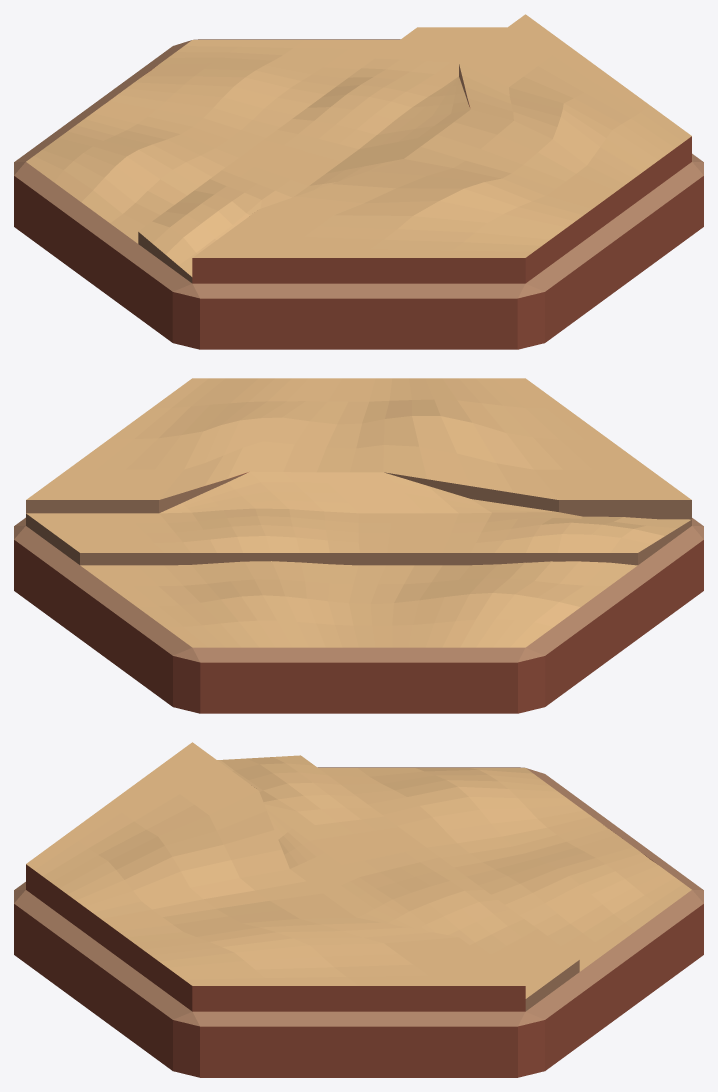
Rendered from sand.fbx.
3 views of the same model, one above another, from view 1: azimuth 30°, elevation 25°; view 2: azimuth 150°, elevation 25°; view 3: azimuth 270°, elevation 25° (orthographic).
Parts seen in each view (by area): view 1: 柱体.006; view 2: 柱体.006; view 3: 柱体.006.
Boxes of the visible parts, x1,y1,x2,y2 form: 柱体.006: (14, 14, 703, 349); 柱体.006: (14, 378, 703, 713); 柱体.006: (14, 742, 703, 1077).
Size of the model in its own units: 1000 by 174 by 1125.
